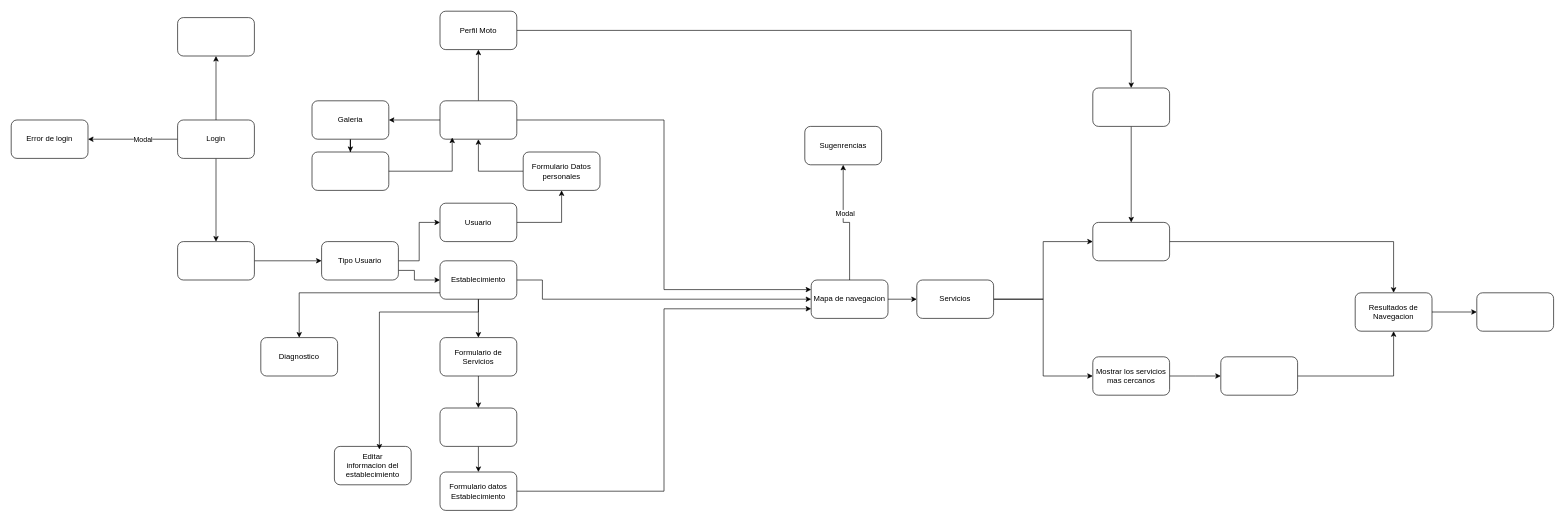
This 1565x522 diagram has some shape labels left out. Each missing label, with the centre of its shape:
"Calificaciones y resenas" belongs at (1131,241).
"Editar Calificaciones y resenas" belongs at (1131,106).
"Enrutar" belongs at (1515,311).
"Formulario de la Moto" belongs at (478,119).
"Formulario de Marcas" belongs at (478,426).
"Mostrar informacion del establecimiento" belongs at (1259,375).
"Recuperar la contrasena" belongs at (215,36).
"Registrarse" belongs at (215,260).
"Subir Fotos" belongs at (350,170).
